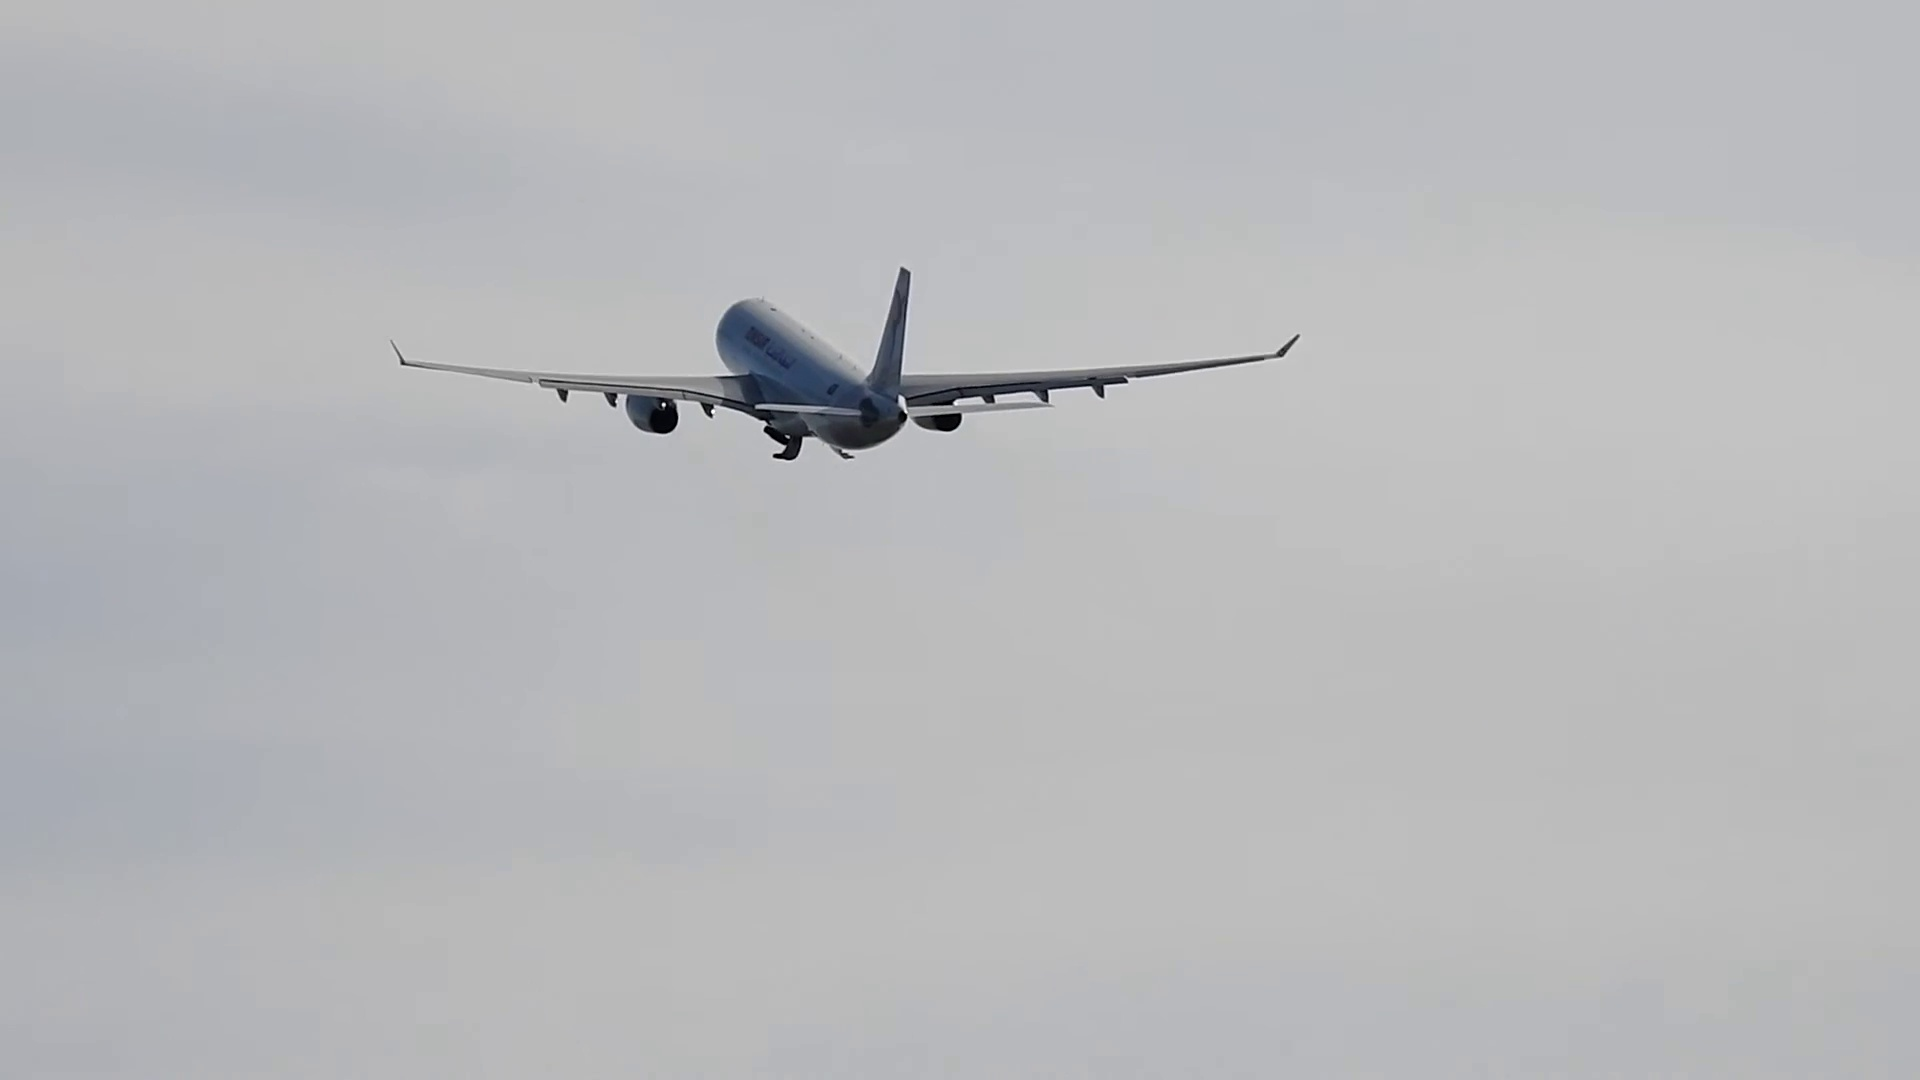Airplane: (392, 262, 1304, 465)
